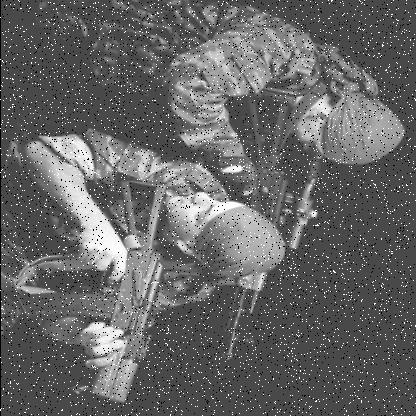rifle: (0, 151, 201, 406), (179, 72, 342, 372)
